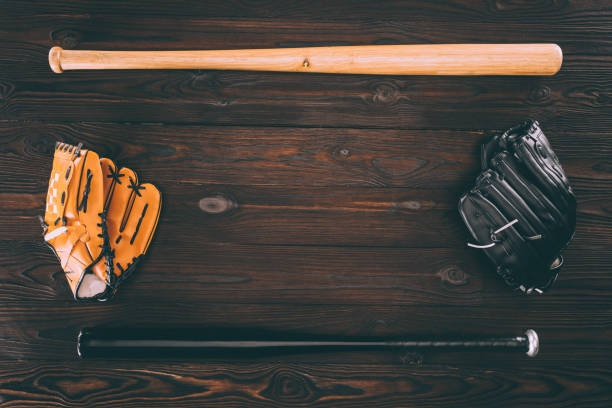bita: (45, 41, 562, 78), (77, 325, 542, 360)
